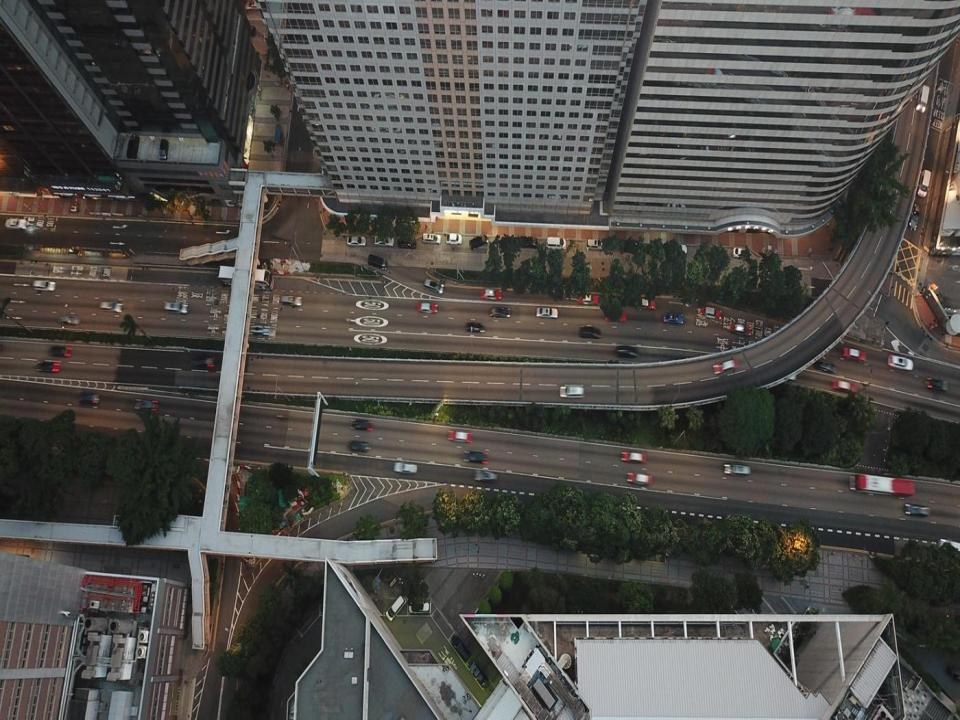bus: (850, 475, 917, 498), (217, 265, 275, 288)
car: (887, 354, 915, 371), (904, 502, 931, 518), (132, 398, 159, 414), (833, 376, 859, 392), (461, 448, 487, 463), (626, 471, 650, 487), (842, 344, 865, 360), (664, 241, 687, 257), (907, 204, 920, 232), (489, 306, 513, 321), (926, 376, 950, 391), (190, 355, 214, 370), (394, 461, 418, 476), (620, 449, 647, 462), (279, 292, 302, 307), (617, 342, 637, 359), (558, 385, 584, 398), (446, 430, 474, 442), (812, 358, 834, 373), (660, 312, 685, 325), (351, 418, 374, 432), (699, 305, 722, 319), (48, 345, 71, 359), (32, 278, 55, 292), (713, 360, 737, 373), (632, 297, 656, 310), (535, 307, 557, 321), (475, 467, 495, 482), (4, 218, 28, 230), (80, 391, 100, 405), (579, 292, 600, 305), (481, 288, 503, 300), (36, 361, 58, 373), (407, 603, 431, 614), (606, 310, 626, 323), (466, 322, 487, 334), (579, 327, 600, 339), (418, 302, 440, 313), (250, 325, 270, 337), (345, 236, 368, 246), (375, 235, 394, 247), (425, 279, 442, 292), (349, 442, 371, 452), (729, 324, 751, 334), (159, 138, 169, 159), (446, 232, 463, 244), (60, 314, 81, 323), (585, 241, 605, 250), (732, 248, 752, 257)
van: (385, 593, 407, 623), (723, 465, 751, 480), (916, 85, 929, 111), (164, 301, 188, 315), (127, 134, 140, 159), (918, 171, 931, 195), (468, 235, 490, 249), (101, 301, 124, 314), (368, 255, 390, 268), (516, 235, 537, 248), (546, 235, 566, 248), (421, 232, 440, 244), (398, 239, 415, 248)
